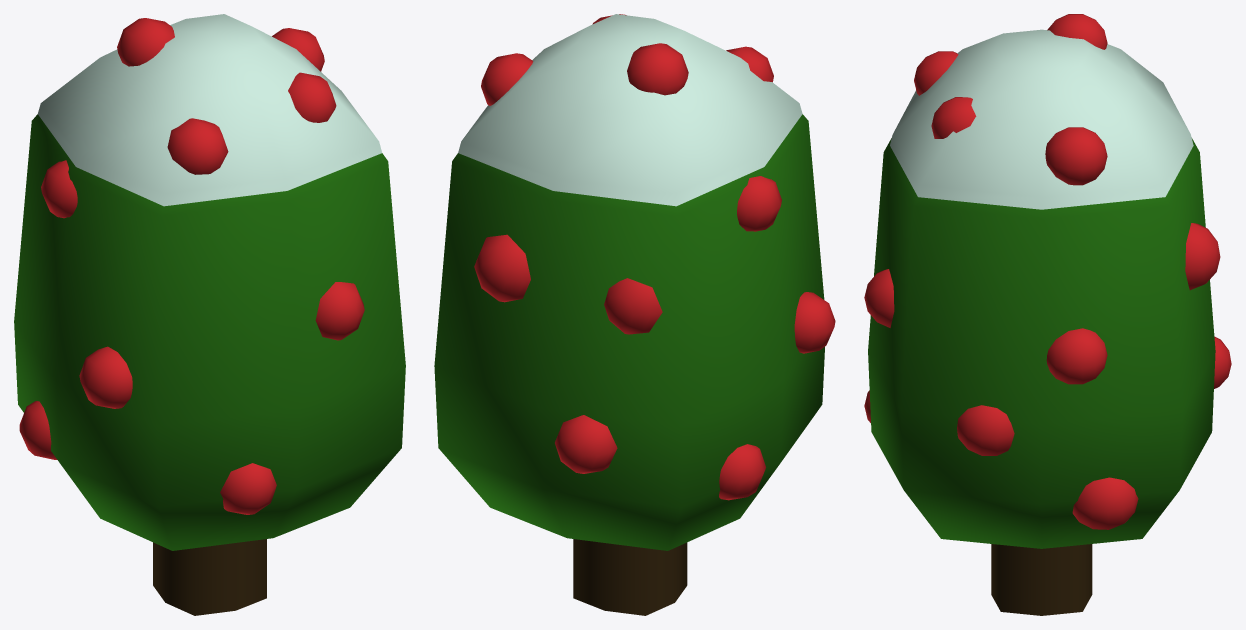
The model's file is winter-tree-apple-tall-g.glb.
The picture shows the model from 3 angles, left to right: view 1: azimuth 30°, elevation 25°; view 2: azimuth 150°, elevation 25°; view 3: azimuth 270°, elevation 25°; orthographic projection.
Visible parts, largest first — view 1: WinterTreeAppleTallG; view 2: WinterTreeAppleTallG; view 3: WinterTreeAppleTallG.
Boxes of the visible parts, box(x1,y1,x2,y2) form: WinterTreeAppleTallG: box(14, 14, 405, 615); WinterTreeAppleTallG: box(434, 14, 835, 615); WinterTreeAppleTallG: box(864, 14, 1231, 615).
Size of the model in its own units: 181 by 300 by 179.
Materials: 1 (1 with a texture image).
